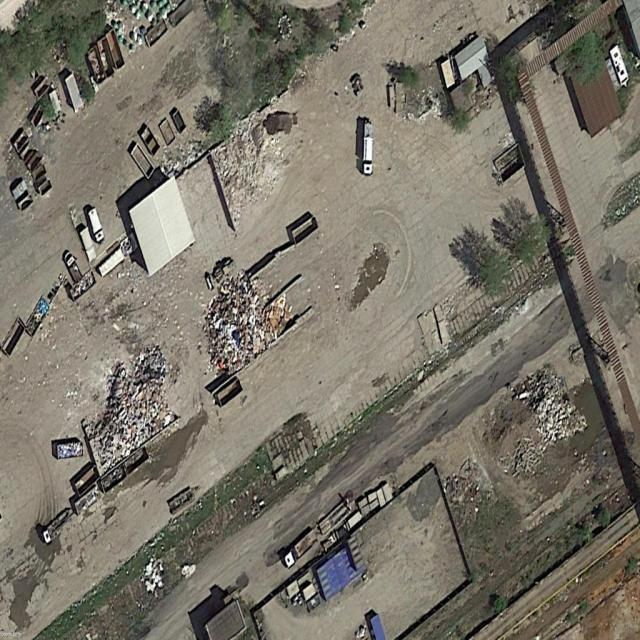dump_site: (476, 349, 589, 491), (80, 340, 183, 475), (211, 100, 294, 226), (199, 265, 274, 379), (158, 127, 210, 181), (263, 291, 296, 342), (70, 269, 96, 302), (57, 440, 83, 459)
